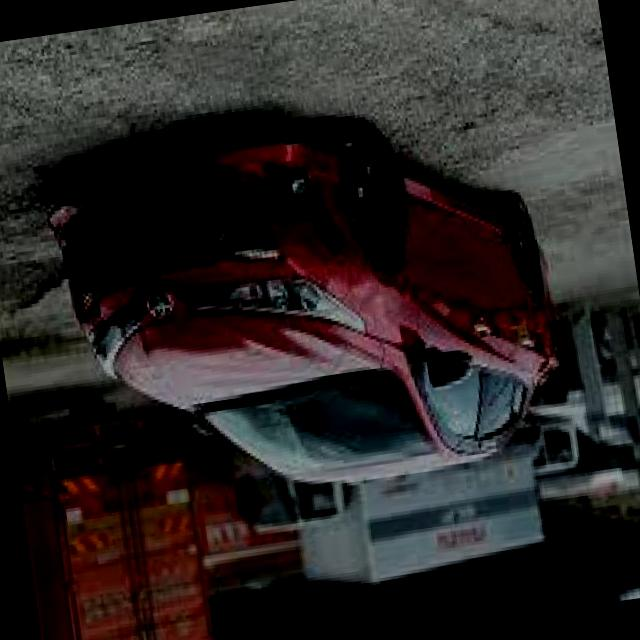ToyotaVios: (40, 87, 578, 524)
